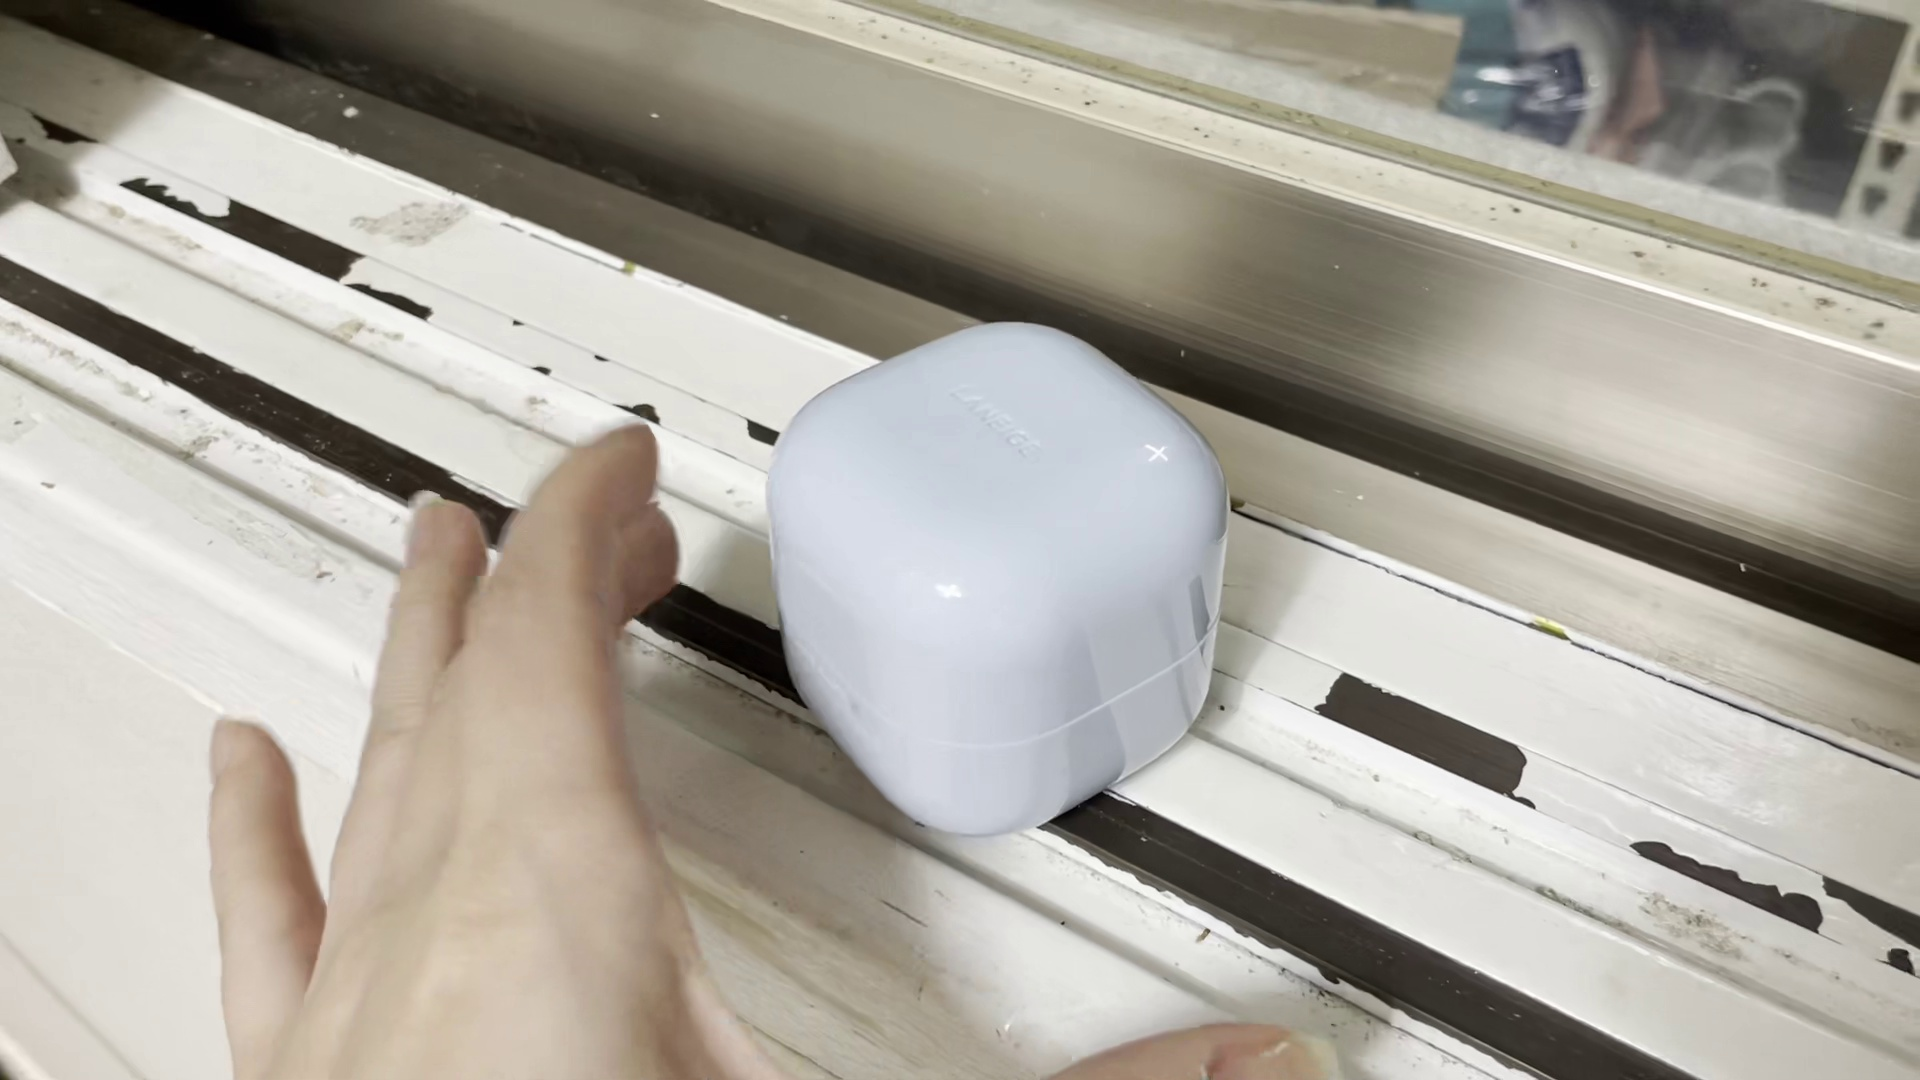cream: (767, 320, 1226, 843)
